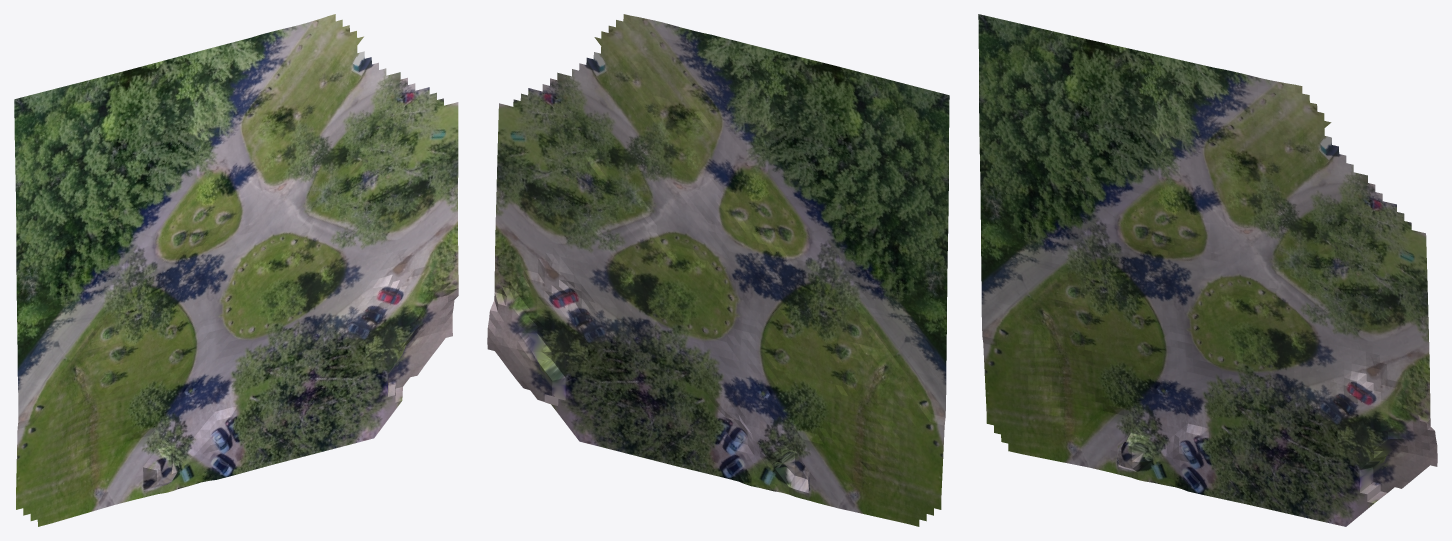
Rendered from odm_textured_model_geo.obj.
3 views of the same model, side by side, from view 1: azimuth 30°, elevation 25°; view 2: azimuth 150°, elevation 25°; view 3: azimuth 330°, elevation 25° (orthographic).
Size of the model in its own units: 82.79 by 77.4 by 4.37.
1 material, 1 textured.
